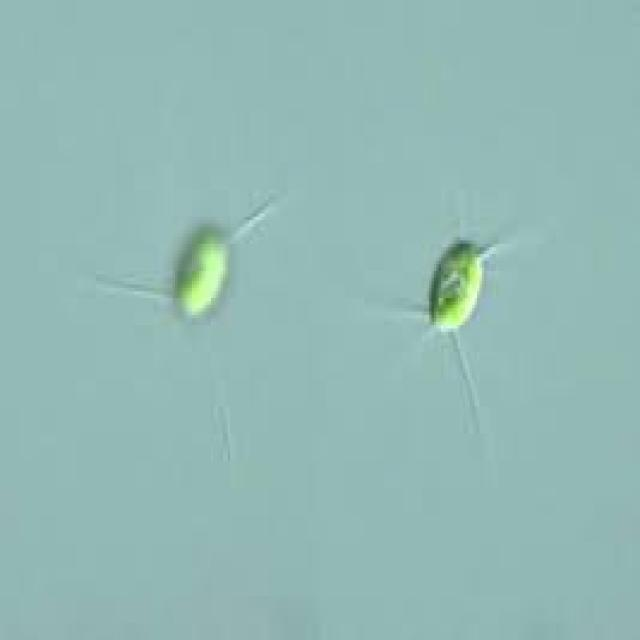Green Algae: (94, 190, 290, 453), (352, 186, 513, 437)
